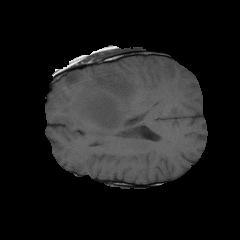glioma: (62, 66, 137, 138)
